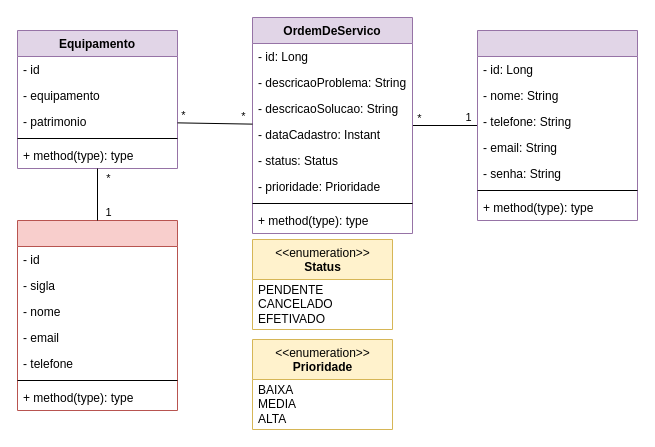
Image size: 655x447. Some labels were removed from this diagram. Here are the shapes that lost their labels. From the top down, the box of each, then its label:
(476, 30, 638, 220): Tecnico
(16, 220, 178, 410): Setor
